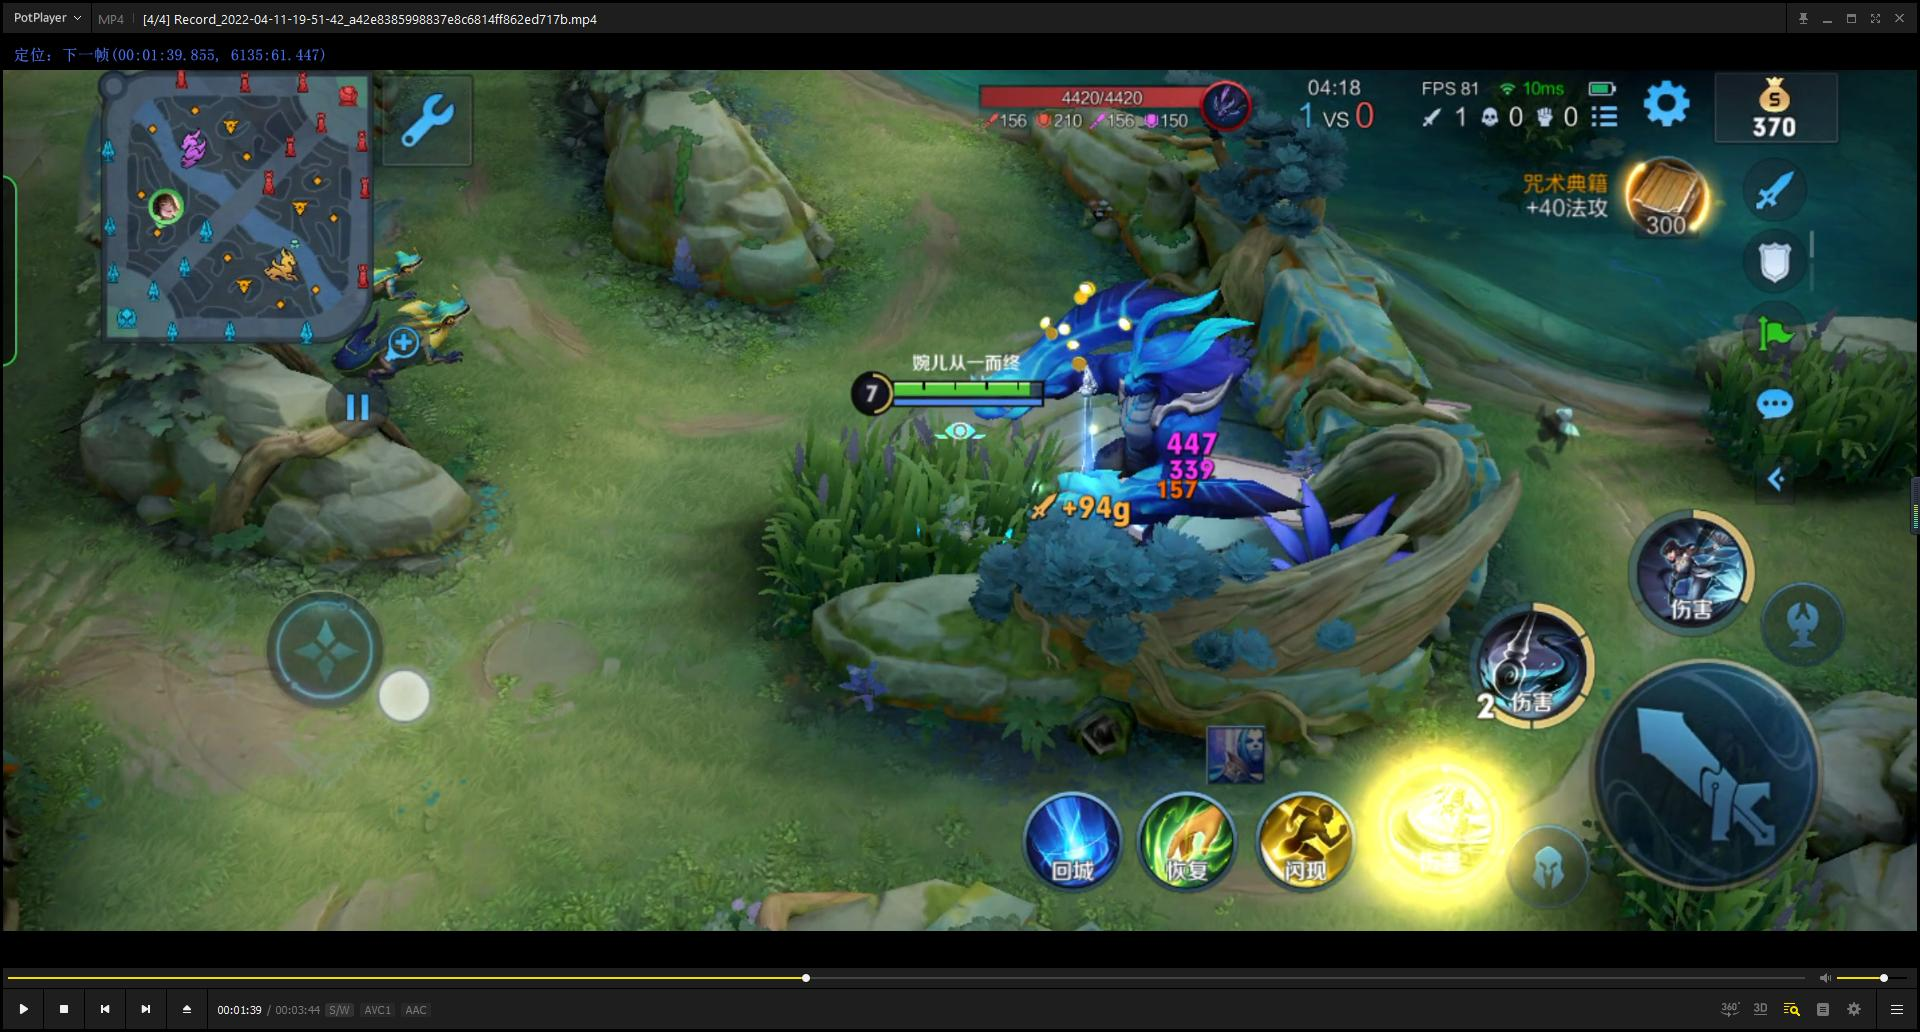Buff: (950, 264, 1324, 549)
Hero: (846, 444, 1042, 594)
Lizard: (342, 280, 479, 398), (355, 227, 431, 300)
